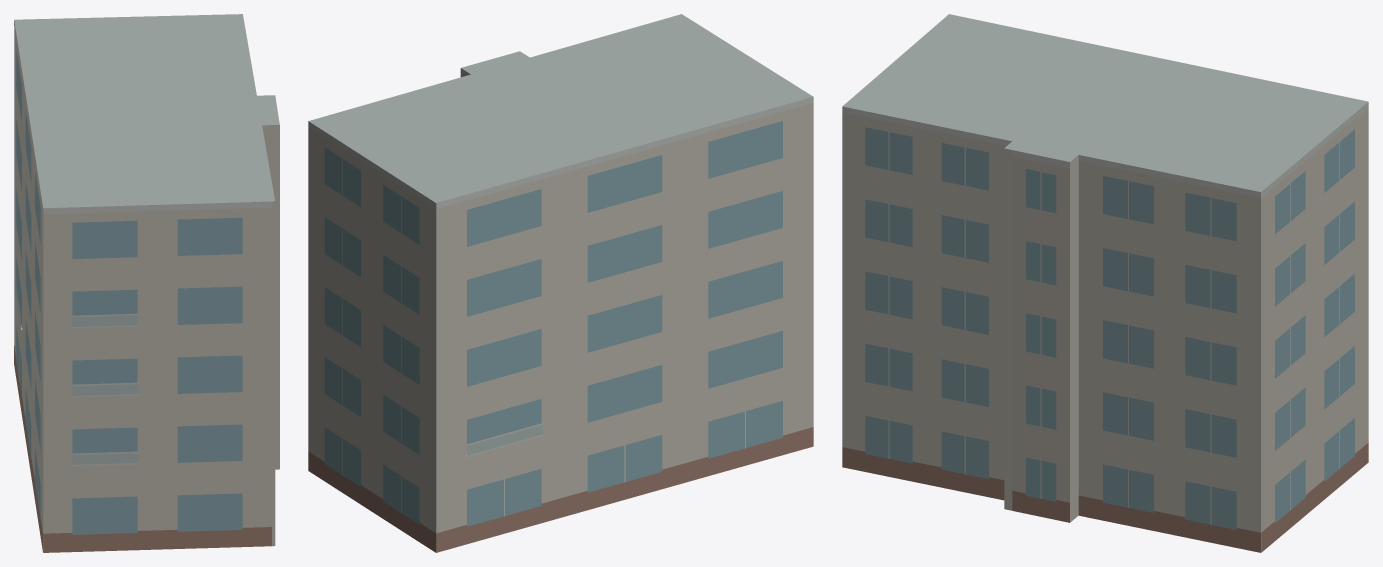
The model's file is survey-upis-32889237.glb.
The picture shows the model from 3 angles, left to right: view 1: azimuth 30°, elevation 25°; view 2: azimuth 150°, elevation 25°; view 3: azimuth 270°, elevation 25°; orthographic projection. The views are drawn at different scales.
Parts seen in each view (by area): view 1: survey-upis-32889237.tmp; view 2: survey-upis-32889237.tmp; view 3: survey-upis-32889237.tmp.
Boxes of the visible parts, x1,y1,x2,y2 form: survey-upis-32889237.tmp: (14, 14, 279, 552); survey-upis-32889237.tmp: (308, 14, 813, 552); survey-upis-32889237.tmp: (842, 14, 1368, 552).
Bounding box in the file's own units: 15.15 × 14.3 × 18.92.
